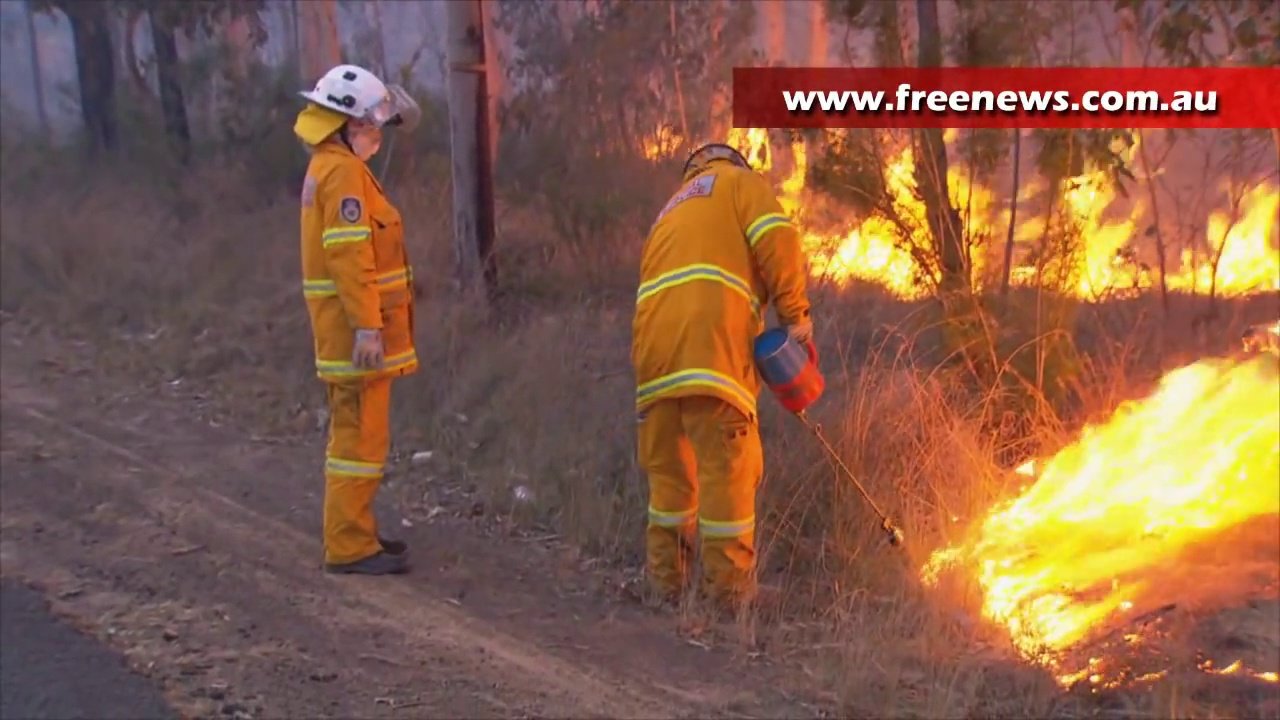fire: (955, 352, 1280, 688), (822, 150, 935, 300), (1169, 181, 1280, 297), (1045, 167, 1144, 296), (736, 123, 773, 171)
